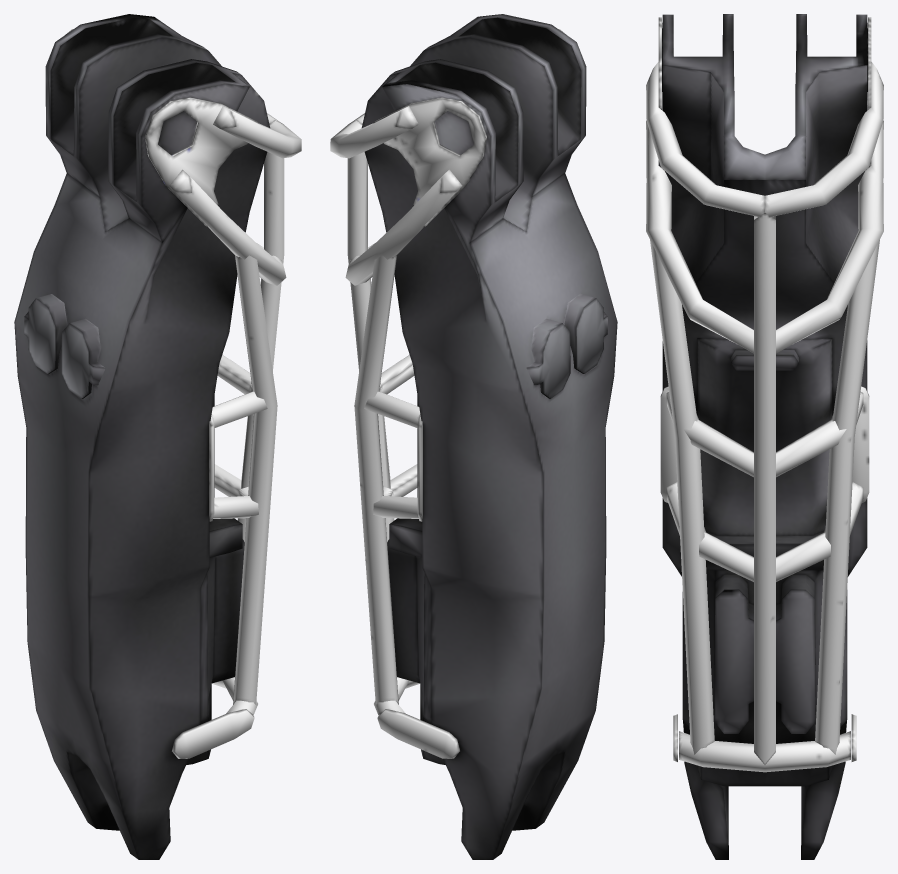
File: l_lleg.dae
3 renders of one model, left to right at view 1: azimuth 30°, elevation 25°; view 2: azimuth 150°, elevation 25°; view 3: azimuth 270°, elevation 25°, orthographic. The views are drawn at different scales.
Visible parts, largest first — view 1: l_lleg; view 2: l_lleg; view 3: l_lleg.
Part boxes in pixels (bbox=[...]): l_lleg: bbox=[14, 14, 301, 859]; l_lleg: bbox=[330, 14, 617, 859]; l_lleg: bbox=[646, 14, 883, 859].
Bounding box in the file's own units: 0.1367 × 0.116 × 0.4522.
1 material, 1 textured.
